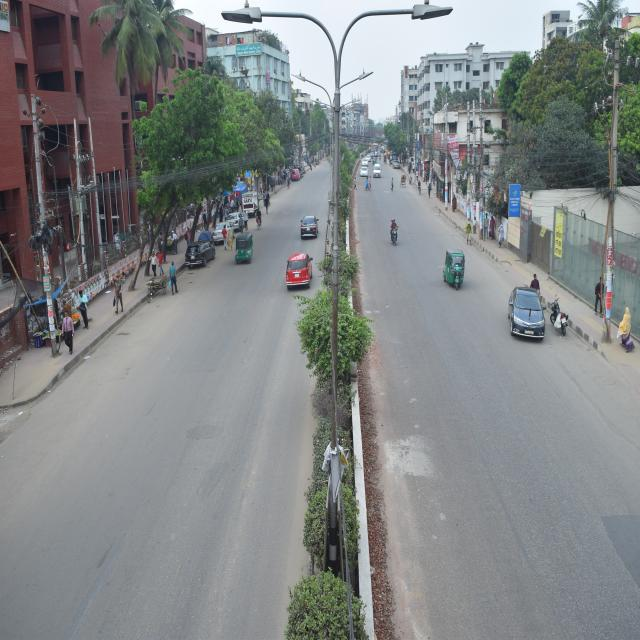car: (507, 283, 551, 354), (282, 249, 318, 297), (180, 239, 217, 272), (296, 206, 325, 245), (214, 218, 235, 250), (225, 205, 248, 229), (374, 158, 385, 188), (357, 158, 369, 181)
motorbike: (550, 288, 572, 340), (387, 216, 405, 248)
pickup-van: (240, 187, 267, 220)
